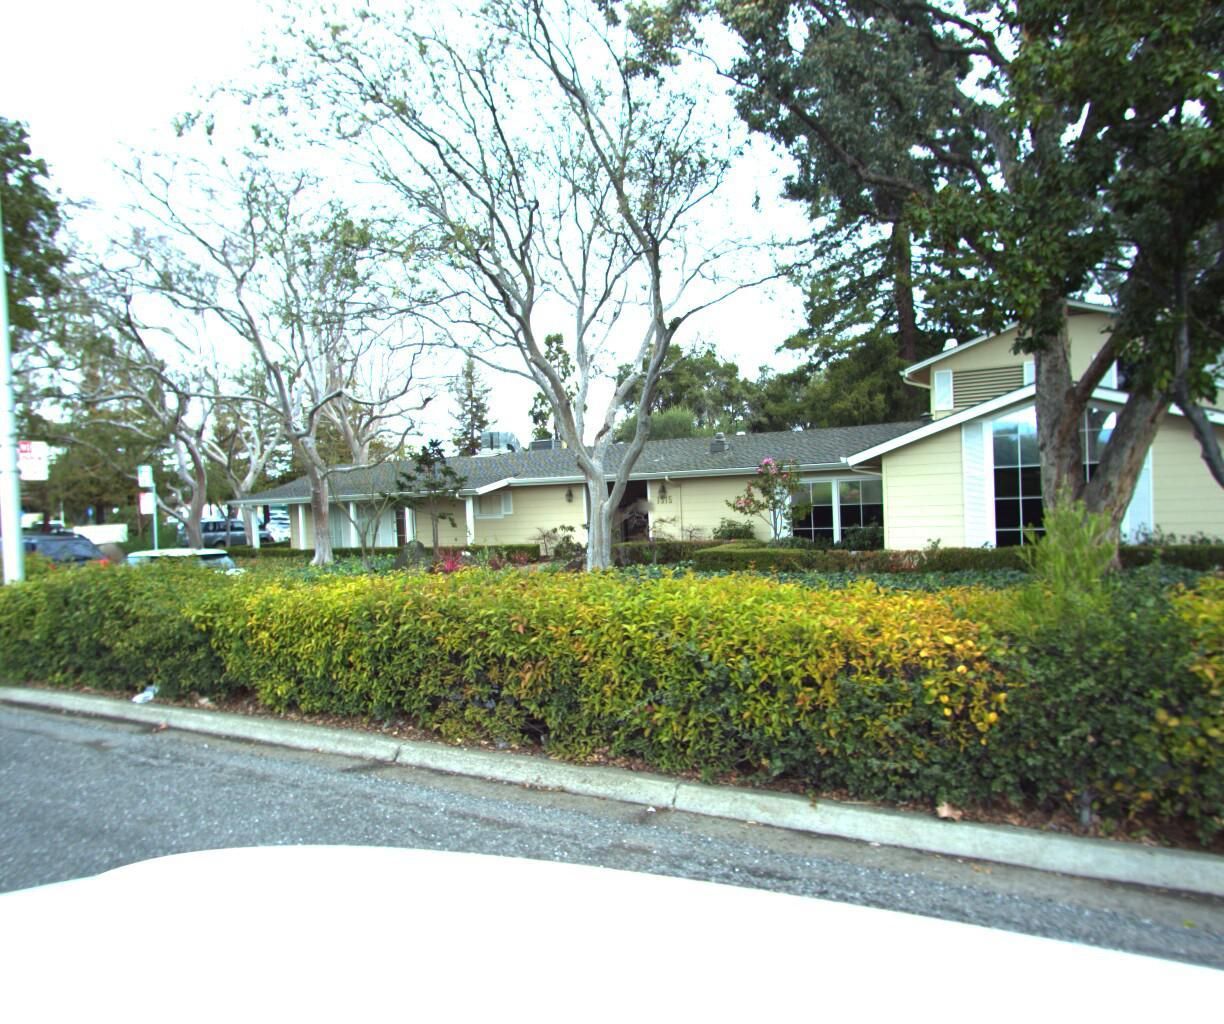car: (60, 538, 267, 633), (0, 524, 122, 620), (168, 507, 279, 554), (264, 509, 349, 545)
